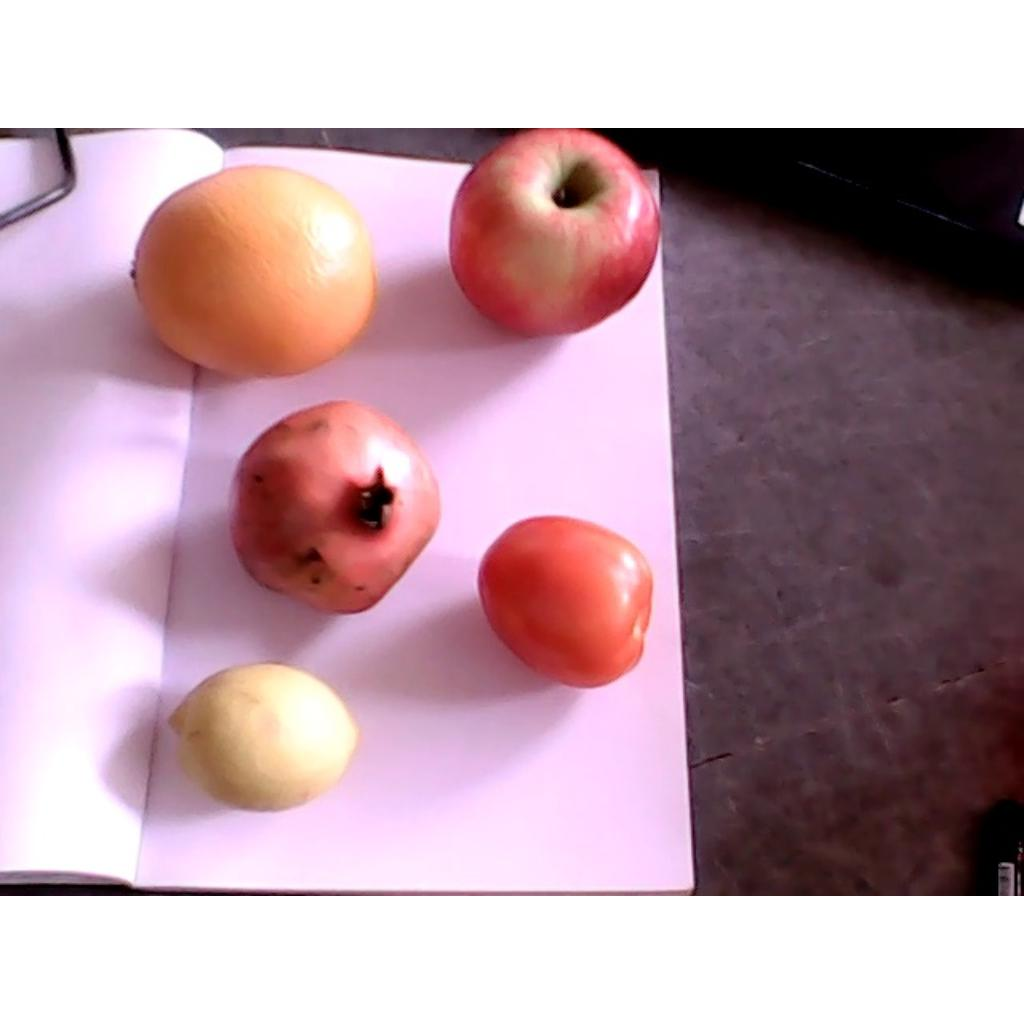apple: (450, 128, 660, 336)
lemon: (166, 662, 360, 813)
orange: (130, 166, 378, 376)
pomegranate: (230, 402, 441, 610)
tomato: (478, 515, 653, 687)
